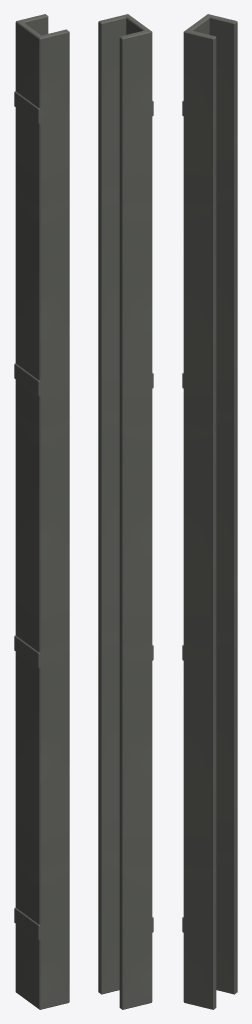
The model's file is WarrensC_CCS36_GateGuideChannel_Mars_SM.fbx.
The picture shows the model from 3 angles, left to right: view 1: azimuth 30°, elevation 25°; view 2: azimuth 210°, elevation 25°; view 3: azimuth 330°, elevation 25°; orthographic projection.
Parts seen in each view (by area): view 1: WarrensC_CCS36_GateGuideChannel_Mars_SM.001; view 2: WarrensC_CCS36_GateGuideChannel_Mars_SM.001; view 3: WarrensC_CCS36_GateGuideChannel_Mars_SM.001.
Part boxes in pixels (<box>): WarrensC_CCS36_GateGuideChannel_Mars_SM.001: <box>14,14,69,1009</box>; WarrensC_CCS36_GateGuideChannel_Mars_SM.001: <box>98,14,153,1009</box>; WarrensC_CCS36_GateGuideChannel_Mars_SM.001: <box>182,14,237,1009</box>.
Size of the model in its own units: 15 by 20 by 440.
